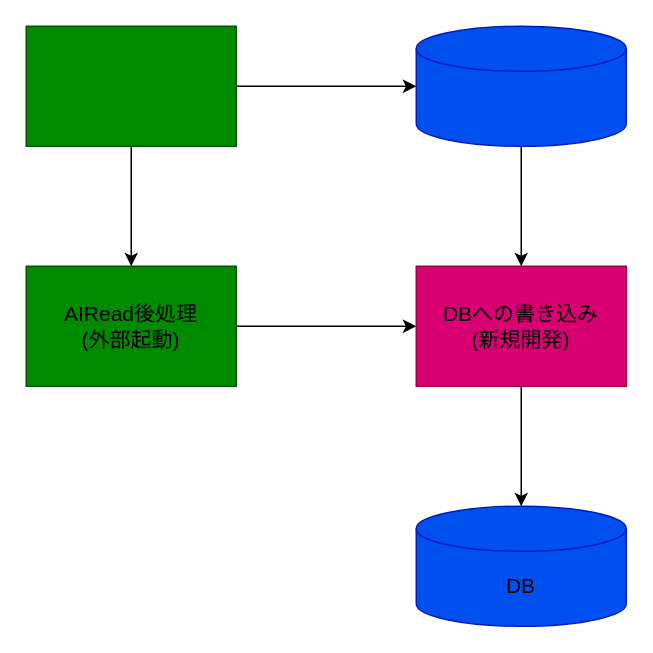
This 653x653 diagram has some shape labels left out. The centre of each missing label's shape, as x and y in pixels:
"AIRead OCR実行" belongs at (130,85).
"csv" belongs at (520,85).
